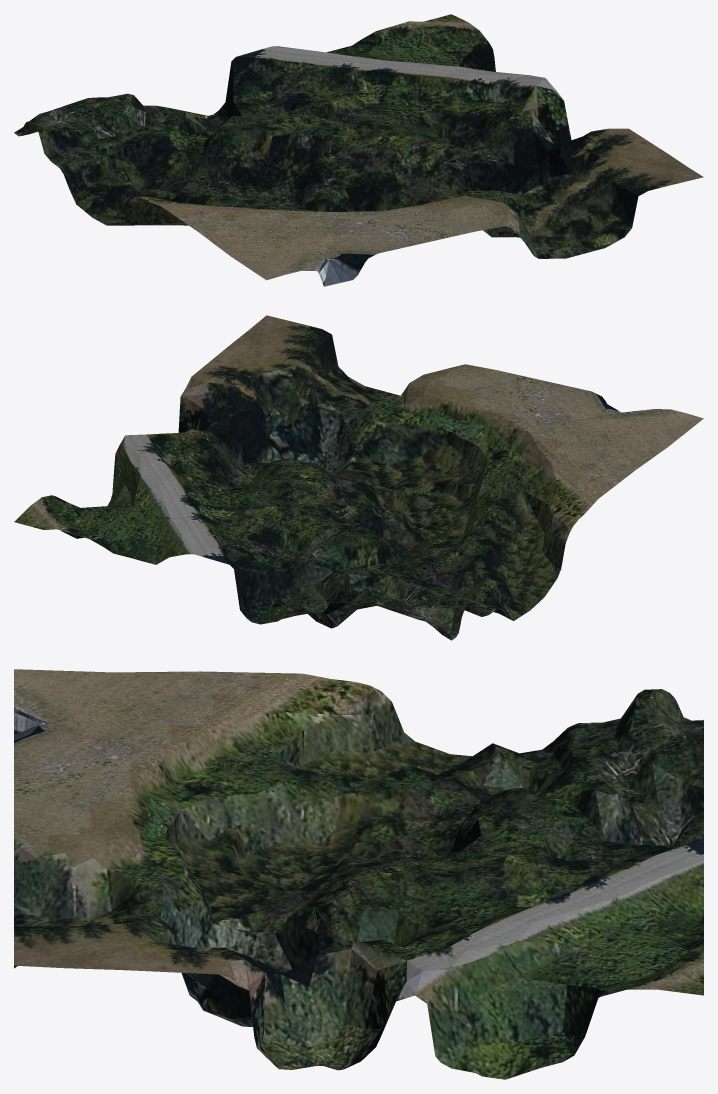
The model's file is map_15_8181_13779.dae.
3 views of the same model, one above another, from view 1: azimuth 30°, elevation 25°; view 2: azimuth 150°, elevation 25°; view 3: azimuth 270°, elevation 25° (orthographic). The views are drawn at different scales.
Visible parts, largest first — view 1: Ter0; view 2: Ter0; view 3: Ter0.
Part boxes in pixels (box(x1,y1,x2,y2)): Ter0: box(14, 14, 703, 286); Ter0: box(14, 315, 703, 640); Ter0: box(14, 669, 703, 1079).
Size of the model in its own units: 63.87 by 63.88 by 13.86.
2 materials, 2 textured.
